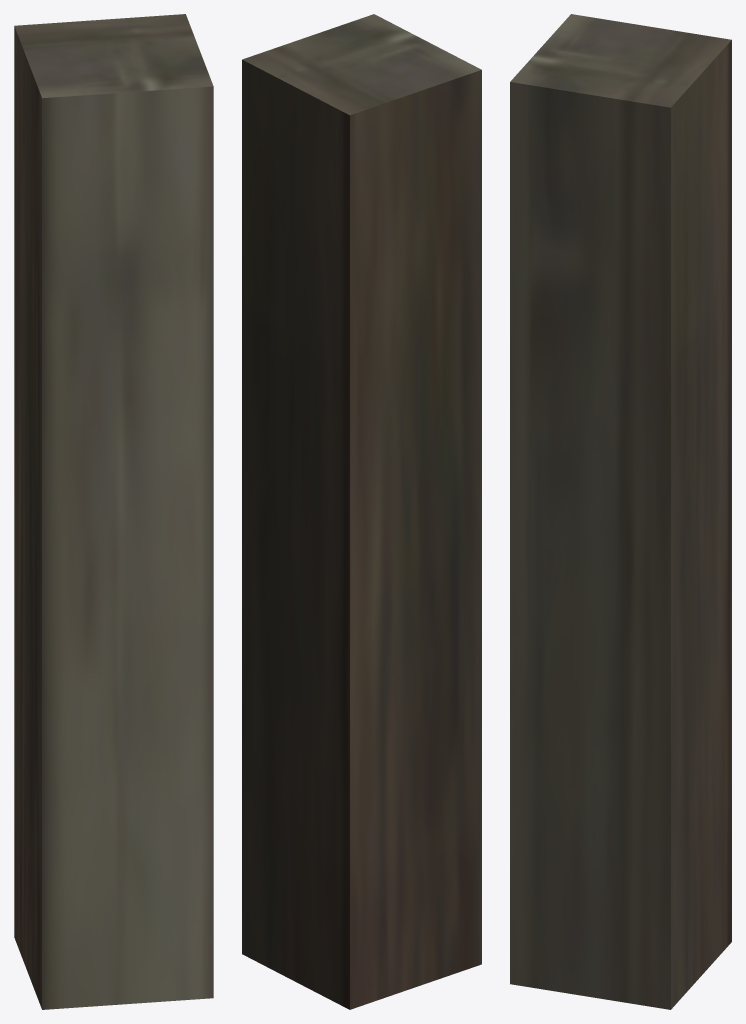
File: H1_F2_Col15.gltf
3 renders of one model, left to right at view 1: azimuth 30°, elevation 25°; view 2: azimuth 150°, elevation 25°; view 3: azimuth 270°, elevation 25°, orthographic.
Visible parts, largest first — view 1: H1_F2_Col15; view 2: H1_F2_Col15; view 3: H1_F2_Col15.
Boxes of the visible parts, x1,y1,x2,y2 form: H1_F2_Col15: (14,14,213,1009); H1_F2_Col15: (242,14,481,1009); H1_F2_Col15: (510,14,731,1009).
Bounding box in the file's own units: 1.39 × 6.26 × 1.39.
Materials: 1 (1 with a texture image).
